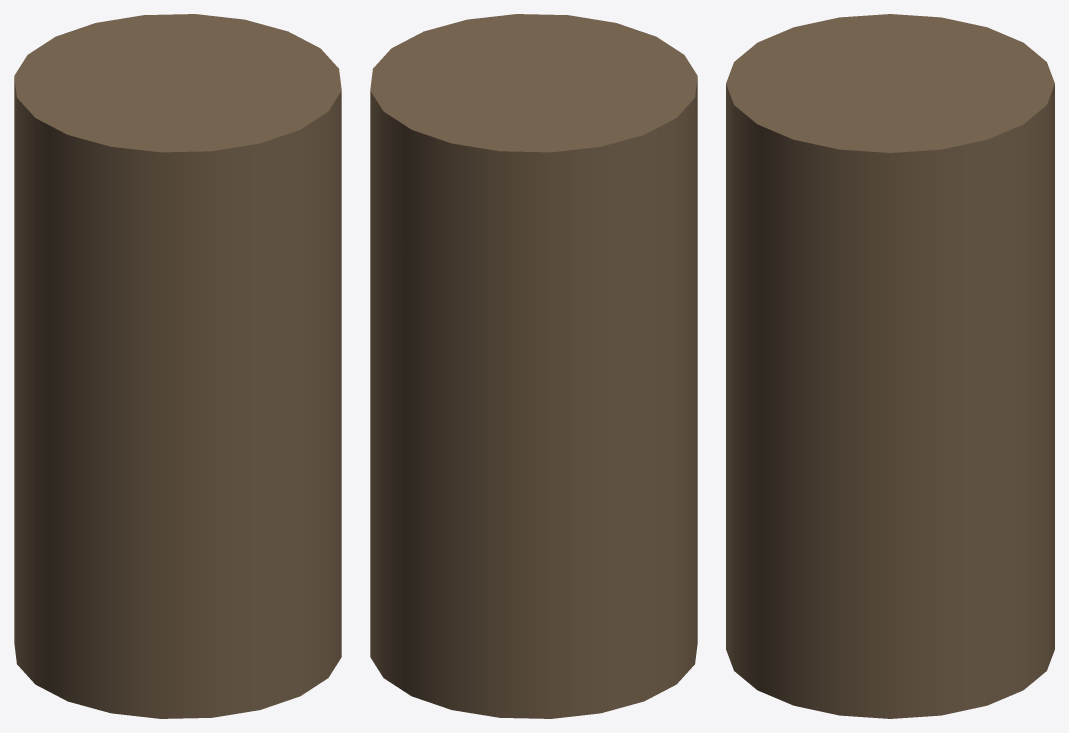
File: SiloExport.fbx
The picture shows the model from 3 angles, left to right: view 1: azimuth 30°, elevation 25°; view 2: azimuth 150°, elevation 25°; view 3: azimuth 270°, elevation 25°; orthographic projection.
Visible parts, largest first — view 1: Silo; view 2: Silo; view 3: Silo.
Part boxes in pixels (left/top/right/bottom): Silo: left=14, top=14, right=341, bottom=718; Silo: left=370, top=14, right=697, bottom=718; Silo: left=726, top=14, right=1054, bottom=718.
Bounding box in the file's own units: 10.78 × 20.45 × 10.78.
